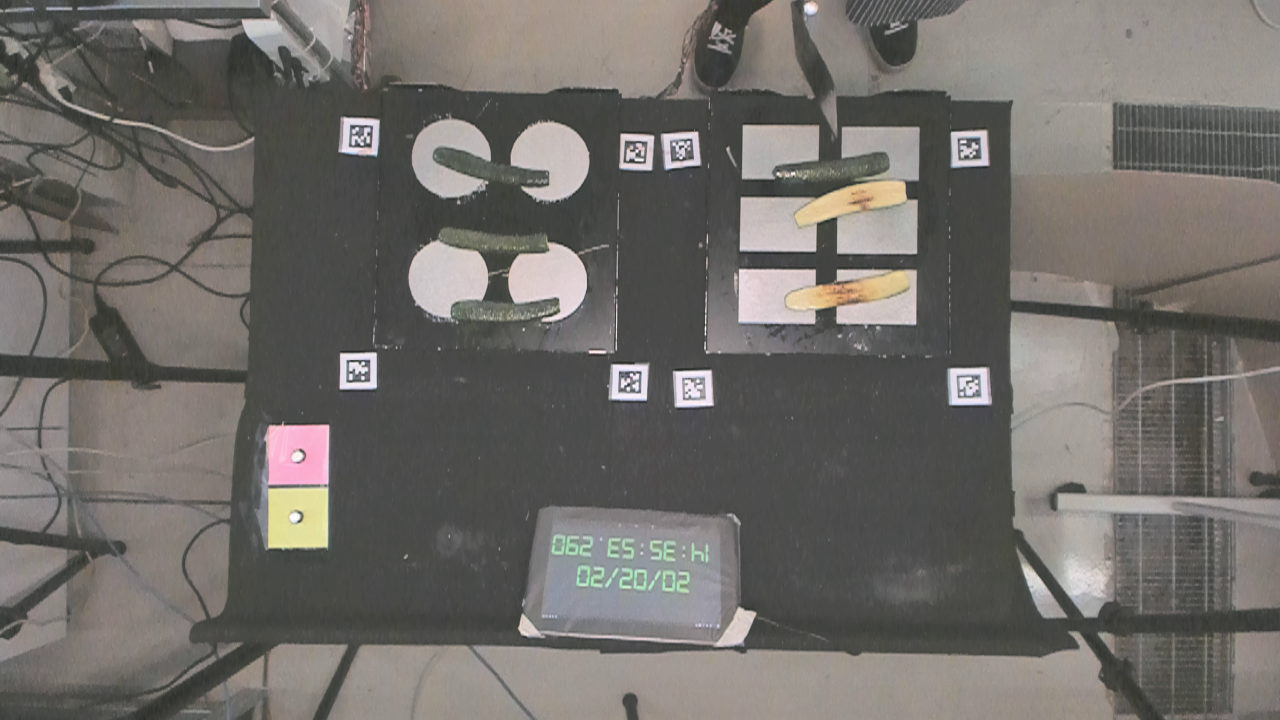marker: (266, 424, 331, 485)
zucchini: (430, 144, 557, 191), (781, 271, 915, 315), (796, 176, 907, 226), (433, 219, 559, 258), (772, 150, 896, 182), (443, 293, 569, 324)
